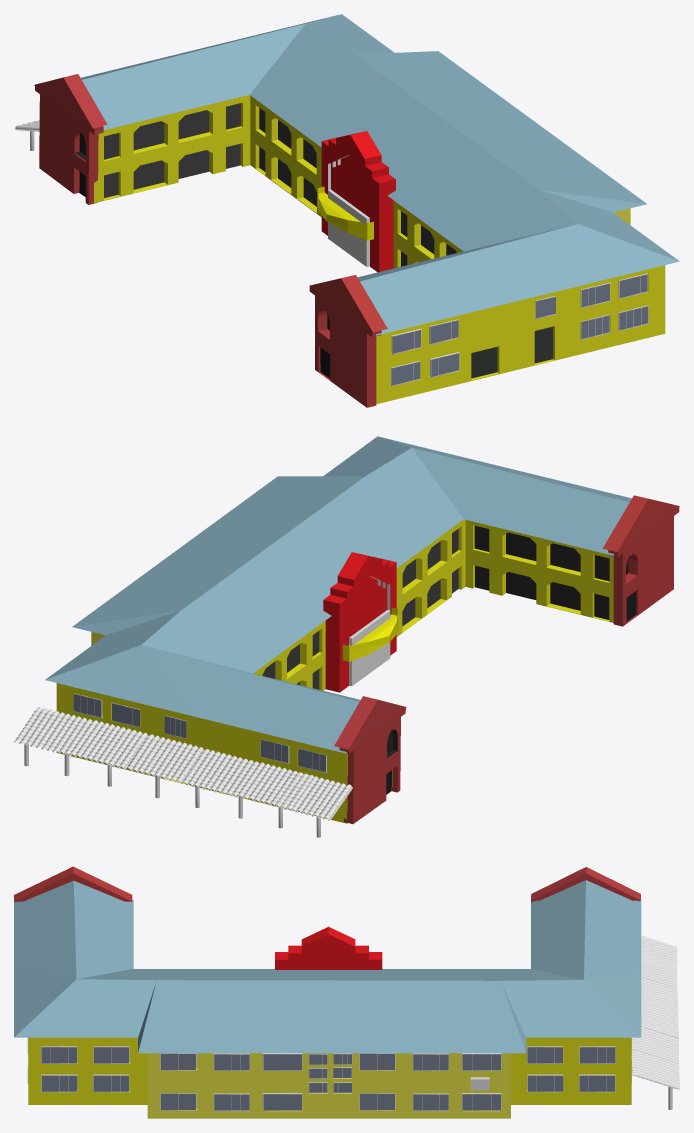
File: Yellow.glb
3 views of the same model, one above another, from view 1: azimuth 30°, elevation 25°; view 2: azimuth 150°, elevation 25°; view 3: azimuth 270°, elevation 25° (orthographic). The views are drawn at different scales.
Visible parts, largest first — view 1: Plane.002, Cube.085, Cube.049, Cube.083, Cube.088, Cube.077, Cube.082, Cube.081, Cube.086, Cube.078, Cube.079, Cube.084 (+7 smaller); view 2: Plane.002, Cube.085, Cube.049, Cube.088, Cube.077, Cube.083, Cube.080, Cube.082, Roof.002, Roof, Roof.001, Roof.004 (+7 smaller); view 3: Plane.002, Cube.072, Cube.085, Cube.088, Cube.078, Cube.079, Roof.001, Roof.002, Roof, Roof.004, Roof.003, Roof.005 (+20 smaller).
Part boxes in pixels (box(x1,y1,x2,y2)): Plane.002: box(81, 14, 679, 335); Cube.085: box(250, 95, 665, 366); Cube.049: box(376, 298, 528, 404); Cube.083: box(94, 95, 250, 203); Cube.088: box(321, 131, 395, 272); Cube.077: box(309, 283, 381, 407); Cube.082: box(35, 82, 103, 204); Cube.081: box(104, 103, 240, 197); Cube.086: box(259, 108, 456, 266); Cube.078: box(310, 275, 387, 332); Cube.079: box(34, 74, 107, 128); Cube.084: box(328, 155, 369, 266); Plane.002: box(45, 436, 631, 753); Cube.085: box(56, 519, 465, 785); Cube.049: box(465, 520, 631, 622); Cube.088: box(323, 552, 396, 692); Cube.077: box(608, 506, 679, 626); Cube.083: box(191, 716, 392, 823); Cube.080: box(474, 525, 609, 619); Cube.082: box(339, 708, 405, 823); Roof.002: box(69, 720, 148, 769); Roof: box(125, 734, 204, 783); Roof.001: box(14, 707, 92, 756); Roof.004: box(181, 749, 259, 797); Plane.002: box(14, 880, 641, 1053); Cube.072: box(147, 1053, 510, 1118); Cube.085: box(28, 1037, 631, 1104); Cube.088: box(275, 926, 382, 969); Cube.078: box(14, 866, 132, 901); Cube.079: box(531, 867, 640, 900); Roof.001: box(631, 1050, 679, 1089); Roof.002: box(632, 1026, 678, 1063); Roof: box(641, 1001, 678, 1038); Roof.004: box(641, 977, 678, 1012); Roof.003: box(641, 951, 677, 987); Roof.005: box(641, 935, 677, 970).
Size of what is drawn, in the model's own units: 92.05 by 35.31 by 167.
